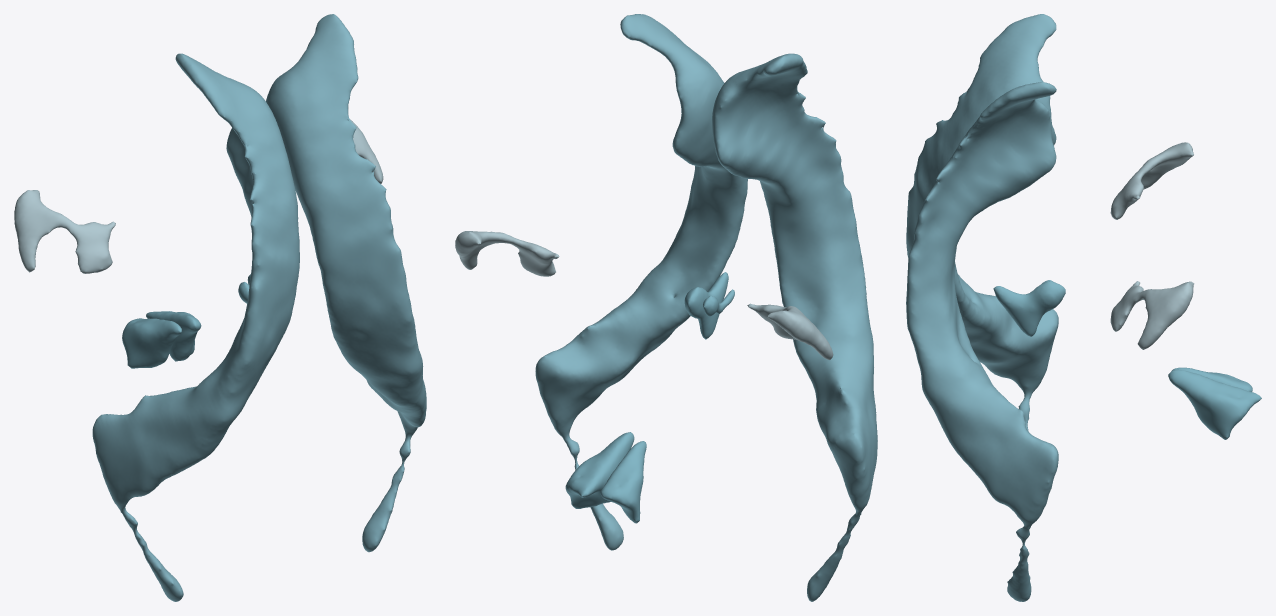
File: organs-cerebra.glb
The picture shows the model from 3 angles, left to right: view 1: azimuth 30°, elevation 25°; view 2: azimuth 150°, elevation 25°; view 3: azimuth 270°, elevation 25°; orthographic projection. The views are drawn at different scales.
Parts seen in each view (by area): view 1: organs-cerebra; view 2: organs-cerebra; view 3: organs-cerebra.
Part boxes in pixels (x1=…): organs-cerebra: x1=14, y1=14, x2=426, y2=601; organs-cerebra: x1=455, y1=14, x2=877, y2=601; organs-cerebra: x1=906, y1=14, x2=1261, y2=601.
Bounding box in the file's own units: 76.05 × 109 × 68.71.
